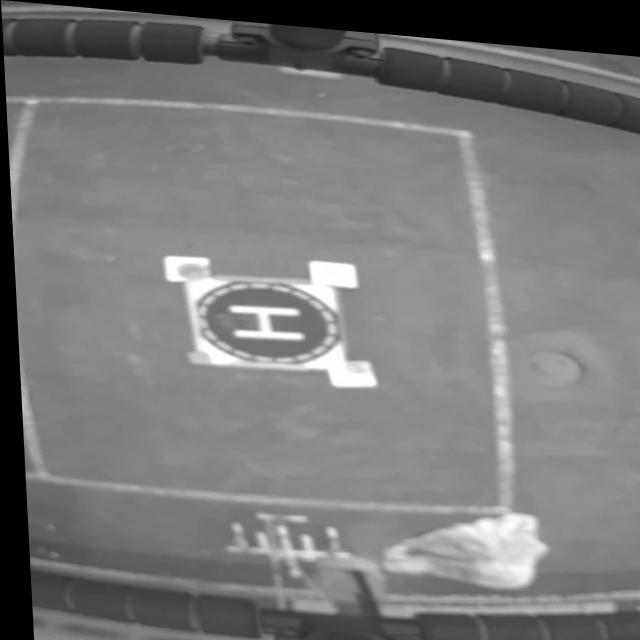Helipad: (223, 300, 299, 336)
